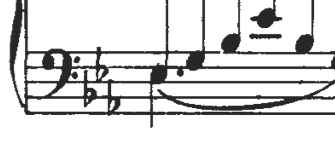bass_clef: (36, 45, 83, 104)
flat: (79, 65, 98, 109), (104, 76, 123, 119), (93, 43, 110, 86)
